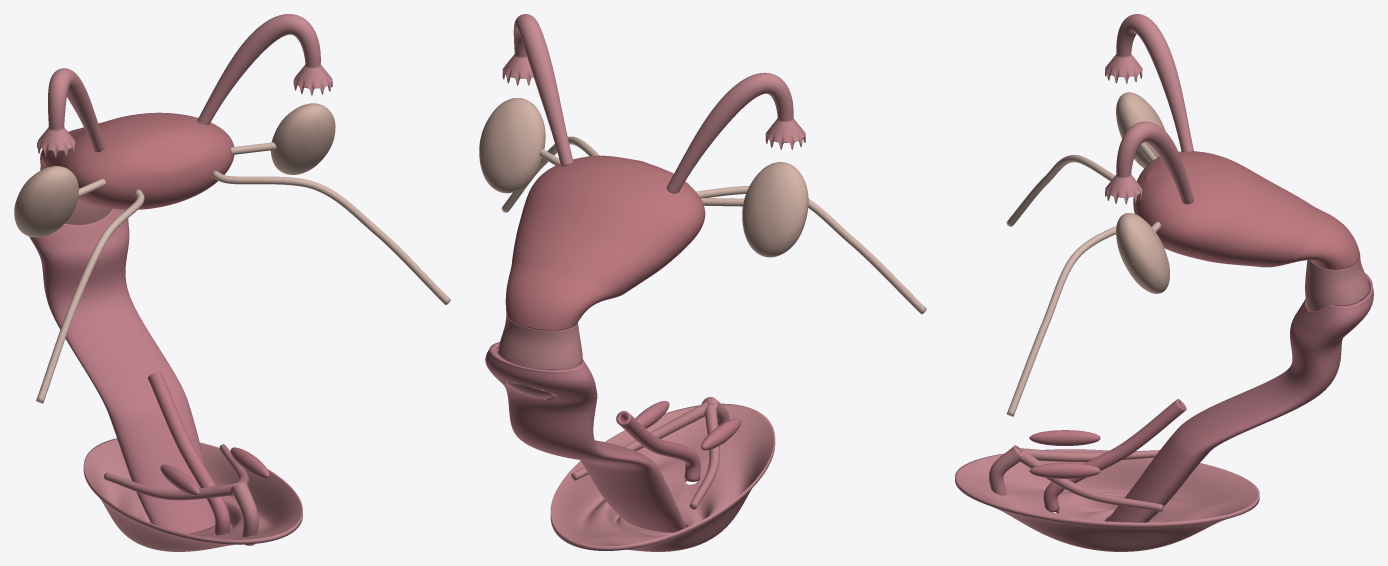
Rendered from reproductive-female-v2.glb.
The picture shows the model from 3 angles, left to right: view 1: azimuth 30°, elevation 25°; view 2: azimuth 150°, elevation 25°; view 3: azimuth 270°, elevation 25°; orthographic projection. The views are drawn at different scales.
Visible parts, largest first — view 1: Vagina, Uterus, Vulva, Uterine tube.l, Ovary.r, Ovary.l, Uterine tube.r, Clitoris, Female urethra, Round ligament.l, Round ligament.r, Cervix (+2 smaller); view 2: Uterus, Vulva, Vagina, Ovary.r, Ovary.l, Uterine tube.r, Uterine tube.l, Cervix, Clitoris, Round ligament.r, Female urethra, Round ligament.l (+1 smaller); view 3: Uterus, Vulva, Vagina, Uterine tube.r, Uterine tube.l, Clitoris, Ovary.l, Cervix, Female urethra, Round ligament.l, Ovary.r, Round ligament.r (+2 smaller).
Boxes of the visible parts, x1,y1,x2,y2 form: Vagina: [29, 209, 215, 533]; Uterus: [40, 112, 234, 209]; Vulva: [83, 438, 302, 551]; Uterine tube.l: [197, 14, 332, 125]; Ovary.r: [14, 166, 78, 237]; Ovary.l: [270, 103, 335, 174]; Uterine tube.r: [37, 68, 105, 158]; Clitoris: [104, 444, 258, 545]; Female urethra: [148, 372, 230, 535]; Round ligament.l: [212, 170, 450, 305]; Round ligament.r: [36, 189, 144, 403]; Cervix: [40, 166, 111, 224]; Uterus: [505, 155, 705, 330]; Vulva: [550, 403, 775, 551]; Vagina: [485, 342, 686, 532]; Ovary.r: [742, 162, 808, 257]; Ovary.l: [479, 98, 545, 193]; Uterine tube.r: [666, 72, 805, 193]; Uterine tube.l: [502, 14, 573, 166]; Cervix: [498, 315, 582, 398]; Clitoris: [571, 397, 729, 509]; Round ligament.r: [696, 186, 926, 314]; Female urethra: [616, 411, 700, 481]; Round ligament.l: [501, 136, 599, 212]; Uterus: [1133, 151, 1359, 269]; Vulva: [955, 449, 1259, 551]; Vagina: [1106, 273, 1373, 522]; Uterine tube.r: [1105, 14, 1193, 151]; Uterine tube.l: [1105, 121, 1193, 204]; Clitoris: [989, 445, 1163, 511]; Ovary.l: [1116, 213, 1169, 293]; Cervix: [1305, 255, 1369, 310]; Female urethra: [1043, 399, 1186, 512]; Round ligament.l: [1007, 226, 1116, 416]; Ovary.r: [1116, 92, 1165, 168]; Round ligament.r: [1006, 154, 1114, 226].
Bounding box in the file's own units: 0.1419 × 0.1581 × 0.1293.
